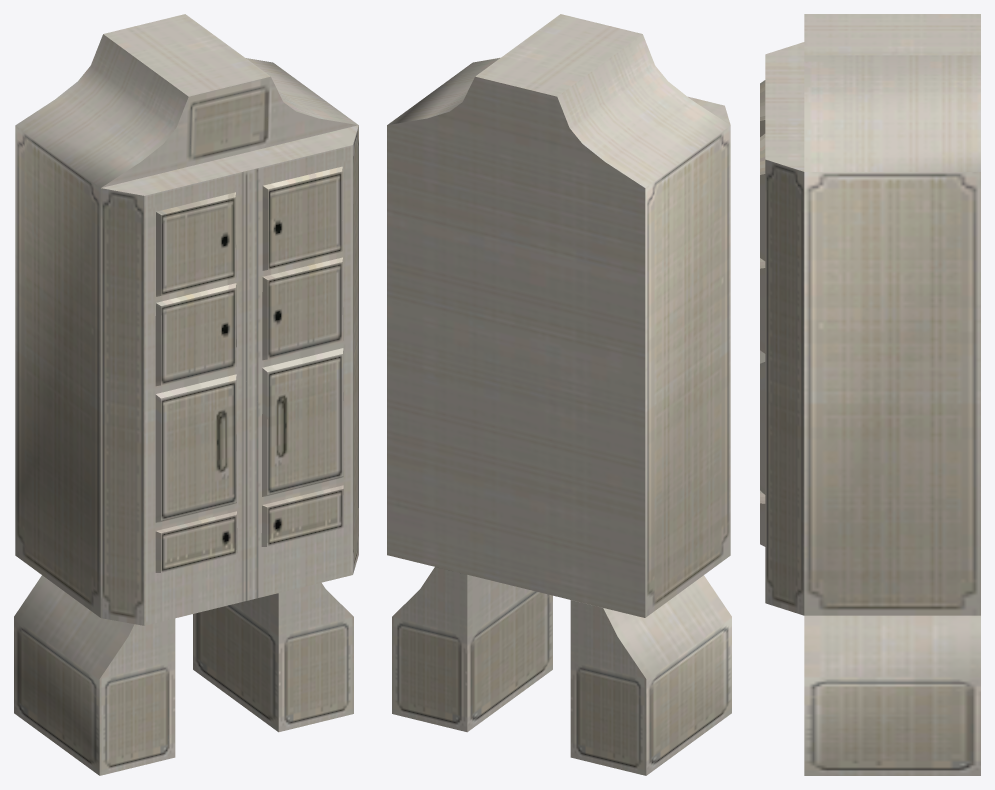
The model's file is frn_all_eleg_cabinet_s01_l0.fbx.
3 renders of one model, left to right at view 1: azimuth 30°, elevation 25°; view 2: azimuth 150°, elevation 25°; view 3: azimuth 270°, elevation 25°, orthographic. The views are drawn at different scales.
Visible parts, largest first — view 1: mesh_node; view 2: mesh_node; view 3: mesh_node.
Part boxes in pixels (left/top/right/bottom): mesh_node: left=14, top=14, right=358, bottom=775; mesh_node: left=387, top=14, right=731, bottom=775; mesh_node: left=760, top=14, right=980, bottom=775.
Size of the model in its own units: 0.7423 by 1.8 by 0.5305.
